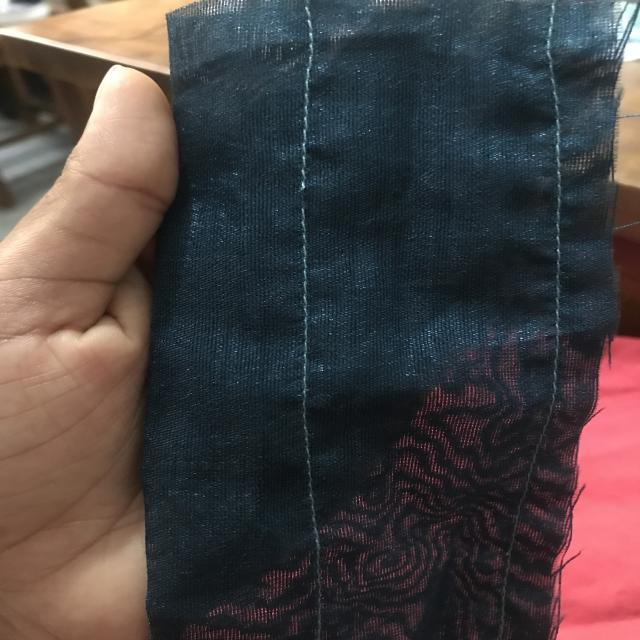broken: (278, 178, 322, 222)
good: (546, 103, 571, 333), (296, 256, 319, 464)
